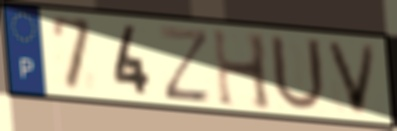4: (112, 23, 153, 97)
7: (48, 13, 95, 94)
H: (210, 25, 276, 113)
U: (267, 31, 329, 115)
V: (323, 38, 380, 118)
Z: (156, 24, 214, 105)
